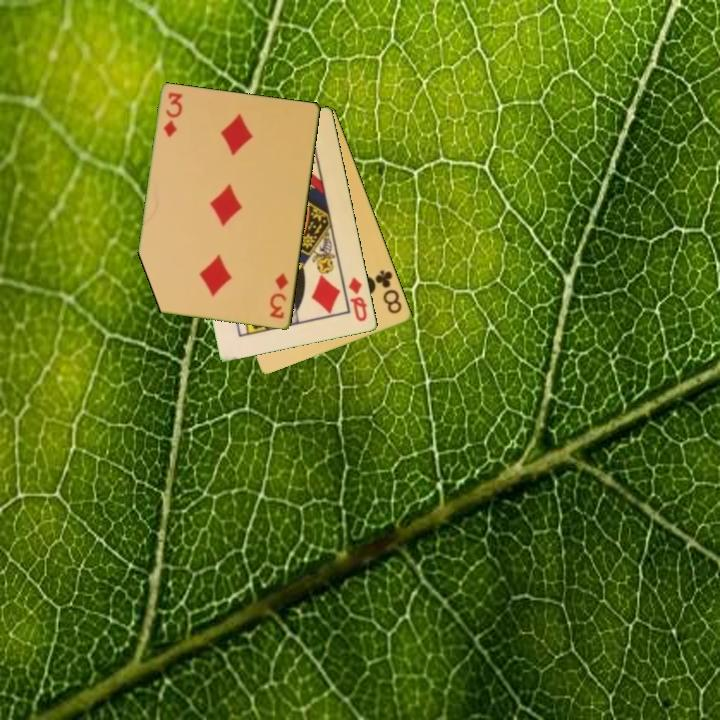3d: (160, 89, 186, 140), (267, 269, 291, 322)
8c: (372, 267, 405, 317)
Qd: (345, 274, 370, 325)
